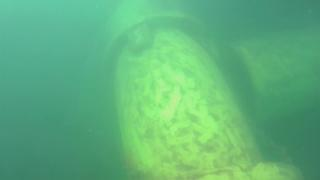pipe: (100, 2, 304, 180), (211, 26, 320, 121)
